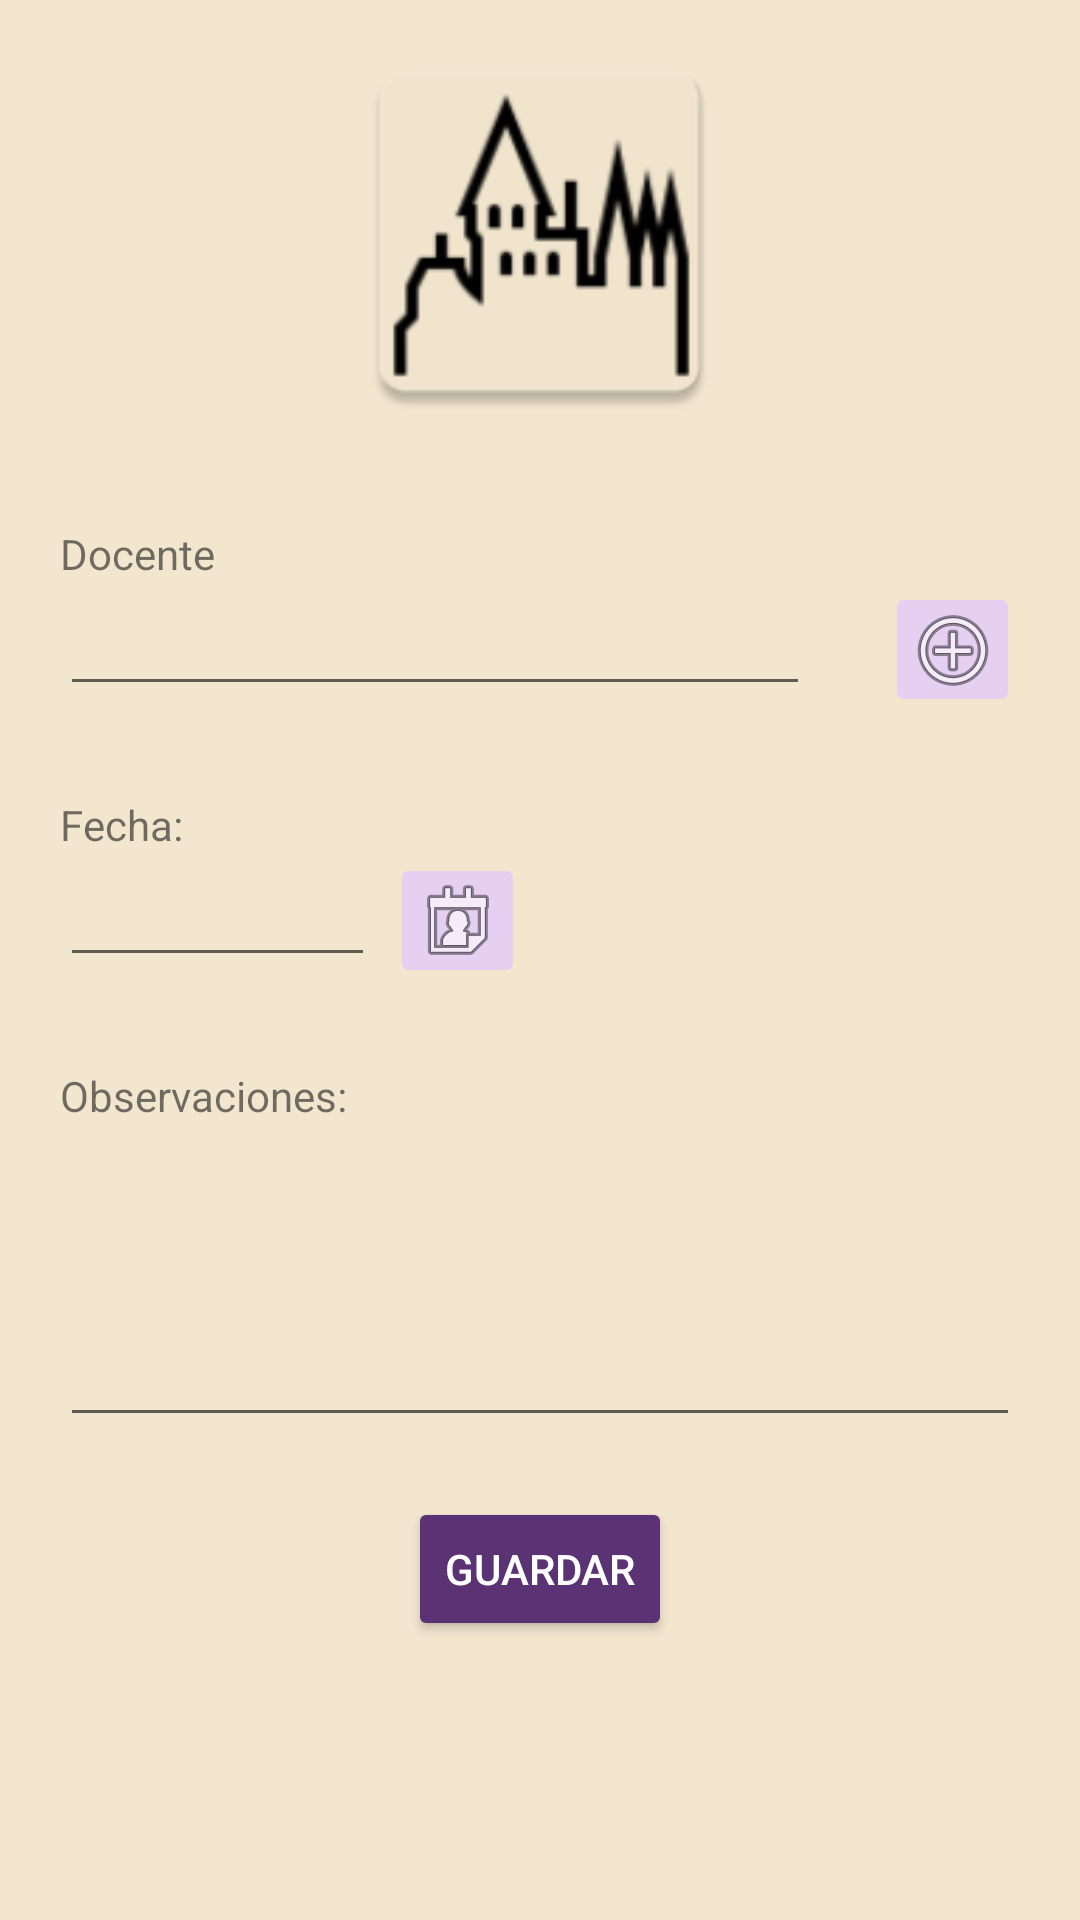

Icons on this 1080px x 1920px Android screen, each with its box as (x1, y1, x2, y2):
add: (897, 600, 1008, 699)
calendar: (402, 871, 513, 970)
